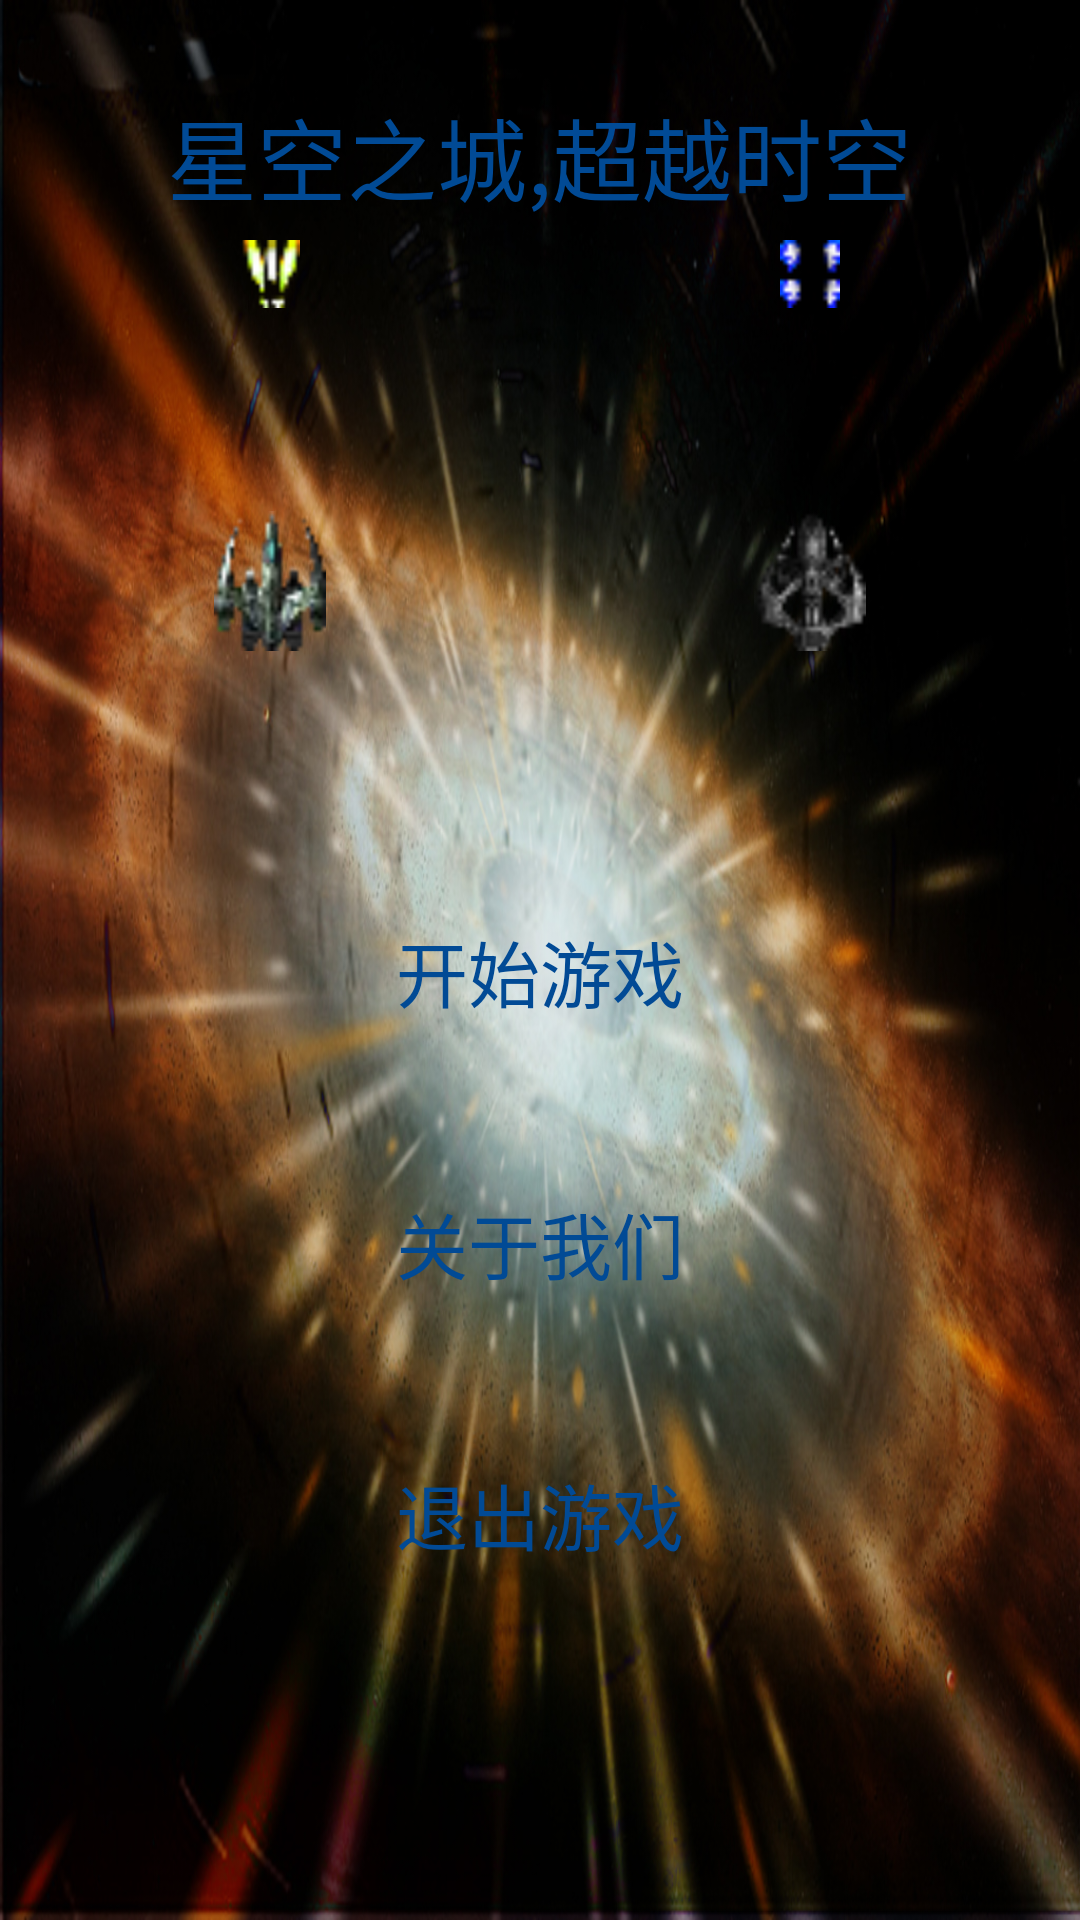

Where to tap for icons on this 1080px×1920px app screen, as point (x, y):
bullet: point (271, 274), point (810, 274)
